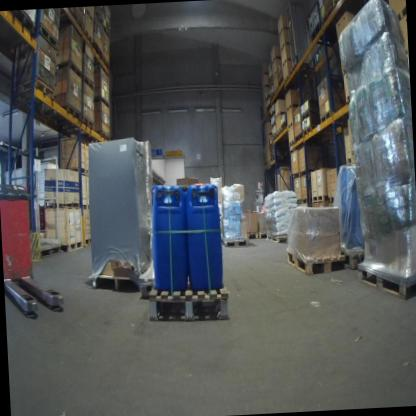pallet: (146, 276, 229, 324), (358, 259, 416, 302), (285, 243, 347, 276), (90, 272, 140, 296), (12, 75, 56, 102), (7, 9, 36, 36), (37, 19, 59, 51), (137, 265, 156, 300), (344, 246, 367, 274), (55, 58, 83, 81), (60, 103, 81, 126), (221, 236, 249, 249), (41, 201, 80, 210), (59, 240, 84, 254), (84, 6, 104, 23), (70, 8, 84, 31), (80, 113, 95, 131), (81, 74, 95, 93), (267, 232, 289, 244), (320, 4, 333, 24), (395, 3, 407, 23), (309, 21, 321, 41), (93, 96, 110, 110), (94, 128, 110, 142), (301, 123, 317, 136), (300, 109, 318, 120), (70, 167, 89, 177), (93, 40, 103, 59), (319, 109, 332, 123), (310, 194, 328, 203), (84, 28, 93, 45), (286, 102, 301, 112), (277, 25, 288, 37), (102, 24, 110, 40), (279, 41, 290, 52), (101, 53, 109, 68), (301, 196, 311, 207), (292, 132, 302, 143), (281, 57, 291, 67), (271, 54, 281, 64), (331, 0, 344, 7), (258, 231, 267, 240), (275, 111, 286, 118), (282, 73, 289, 83), (85, 236, 91, 247), (247, 233, 258, 239), (288, 139, 294, 150), (344, 93, 350, 104), (288, 64, 294, 75), (82, 203, 90, 211), (291, 172, 299, 180), (280, 121, 287, 130), (287, 121, 293, 130), (273, 84, 279, 93), (269, 109, 275, 118), (298, 169, 305, 176), (345, 158, 352, 165), (328, 196, 334, 203), (295, 199, 302, 205), (272, 131, 277, 139), (276, 126, 281, 134), (269, 90, 274, 98), (271, 121, 276, 128), (272, 70, 277, 76), (269, 155, 274, 161)
pallet_truck: (0, 178, 64, 317)
